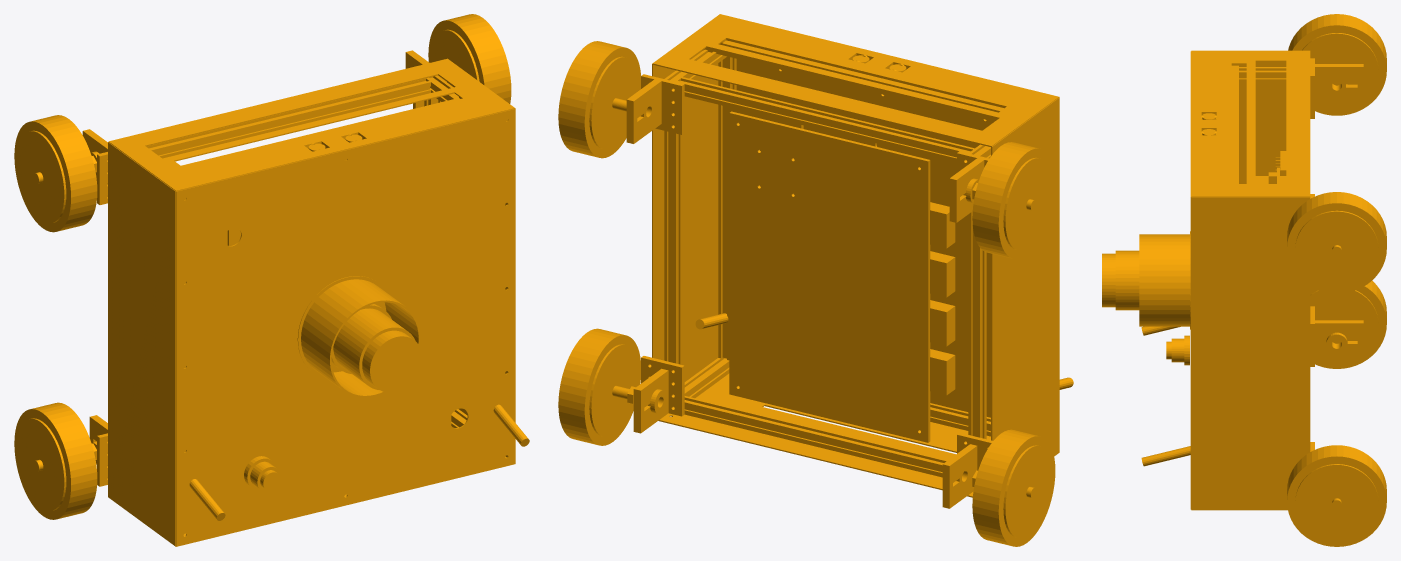
File: bvr1_assembly.glb
3 views of the same model, side by side, from view 1: azimuth 30°, elevation 25°; view 2: azimuth 150°, elevation 25°; view 3: azimuth 270°, elevation 25° (orthographic). The views are drawn at different scales.
Parts seen in each view (by area): view 1: bar-diff-diff-union-union-union-union-union-union-union-unio; view 2: bar-diff-diff-union-union-union-union-union-union-union-unio; view 3: bar-diff-diff-union-union-union-union-union-union-union-unio.
Part boxes in pixels (x1=…): bar-diff-diff-union-union-union-union-union-union-union-unio: x1=14, y1=14, x2=529, y2=546; bar-diff-diff-union-union-union-union-union-union-union-unio: x1=558, y1=14, x2=1073, y2=546; bar-diff-diff-union-union-union-union-union-union-union-unio: x1=1102, y1=14, x2=1386, y2=546.
Bounding box in the file's own units: 775 × 638 × 479.
